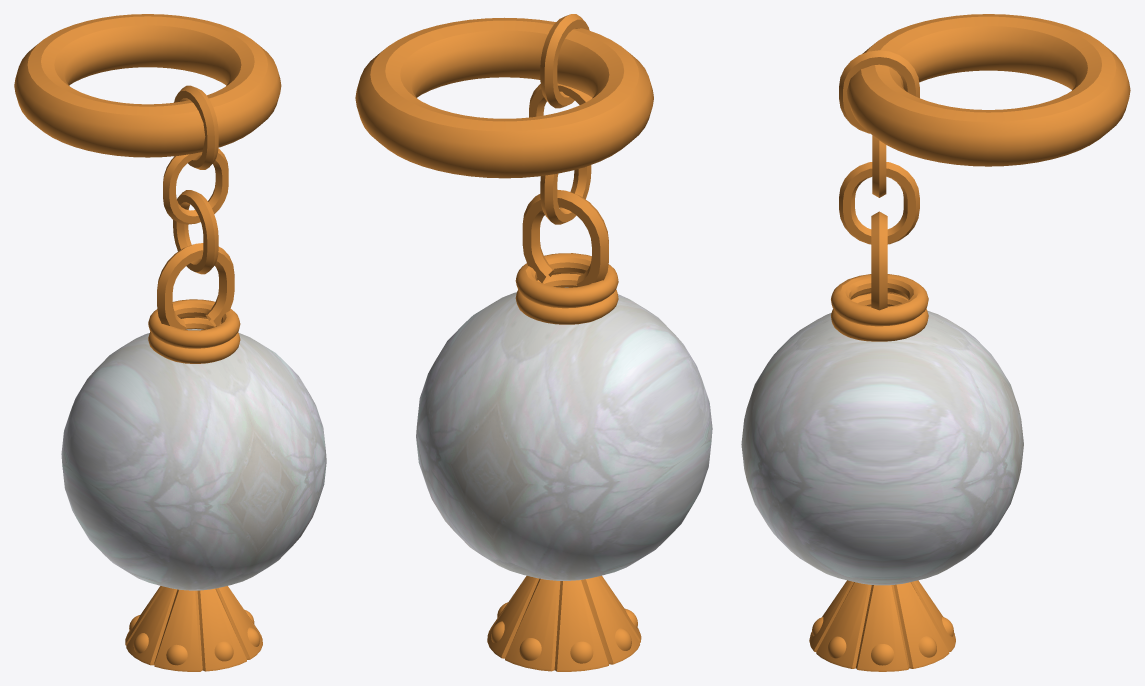
Rendered from Charm-CrystalBall.fbx.
3 views of the same model, side by side, from view 1: azimuth 30°, elevation 25°; view 2: azimuth 150°, elevation 25°; view 3: azimuth 270°, elevation 25° (orthographic). The views are drawn at different scales.
Visible parts, largest first — view 1: Ball, CharmCrystalBall, CharmCrystalH.001; view 2: Ball, CharmCrystalBall, CharmCrystalH.001; view 3: Ball, CharmCrystalBall, CharmCrystalH.001.
Boxes of the visible parts, left/top/right/bottom form: Ball: left=61, top=329, right=326, bottom=671; CharmCrystalBall: left=14, top=14, right=281, bottom=157; CharmCrystalH.001: left=148, top=85, right=240, bottom=363; Ball: left=416, top=287, right=712, bottom=671; CharmCrystalBall: left=355, top=17, right=653, bottom=178; CharmCrystalH.001: left=515, top=14, right=618, bottom=324; Ball: left=741, top=310, right=1023, bottom=671; CharmCrystalBall: left=846, top=14, right=1130, bottom=166; CharmCrystalH.001: left=831, top=50, right=928, bottom=341.
Bounding box in the file's own units: 14.89 × 33.8 × 20.15.
